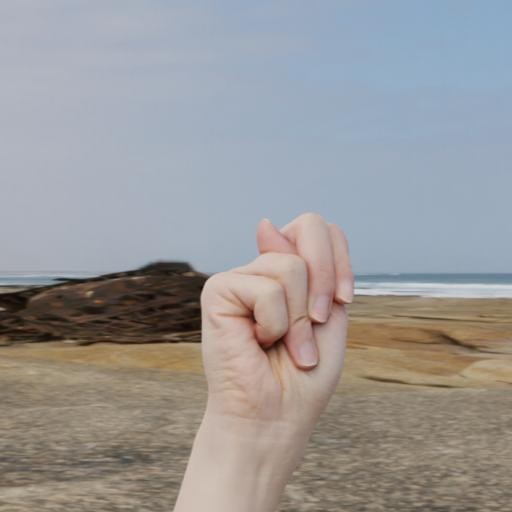N: (149, 185, 377, 473)
